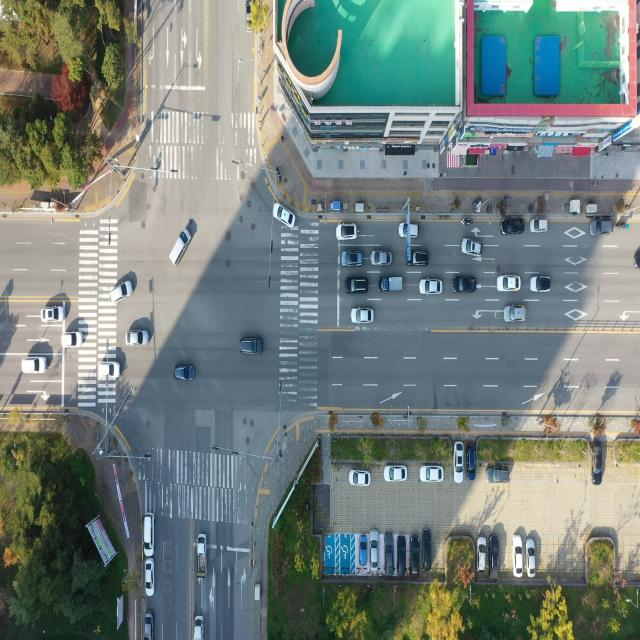car: (504, 307, 526, 324)
small_truck: (376, 278, 402, 295), (198, 534, 208, 578)
